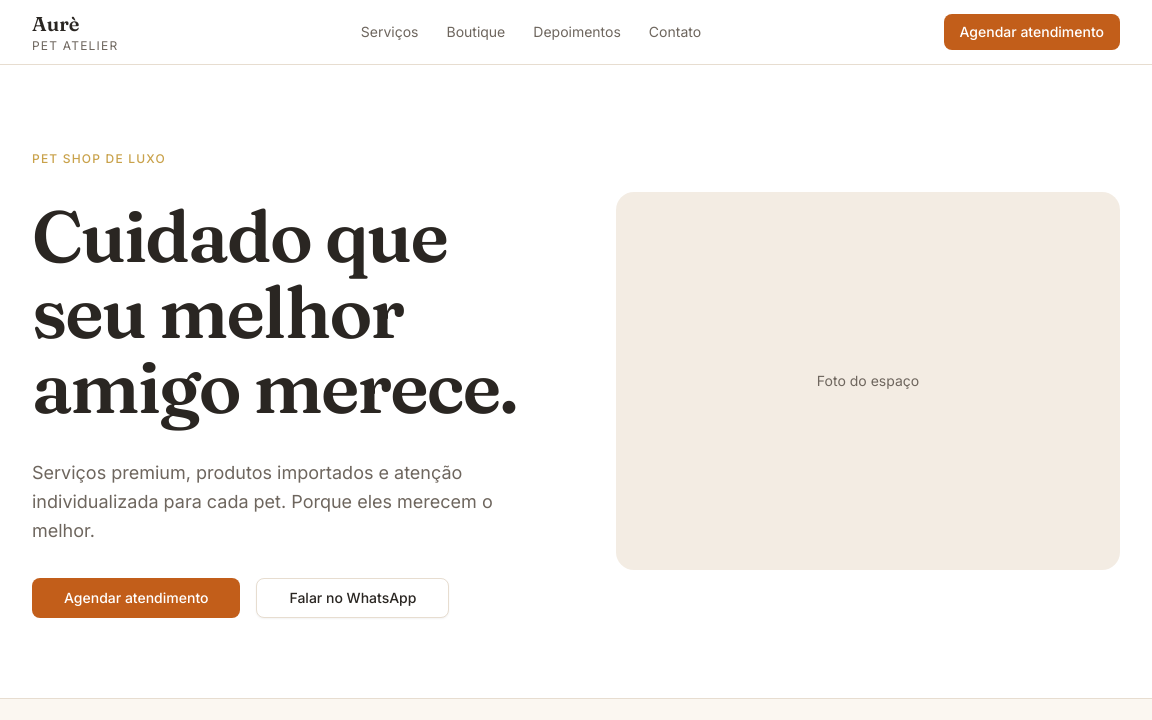
Test: HomePage › opens booking modal when header button is clicked
Click the 1st button "Agendar atendimento": (1032, 32) x1=944 y1=14 x2=1120 y2=50
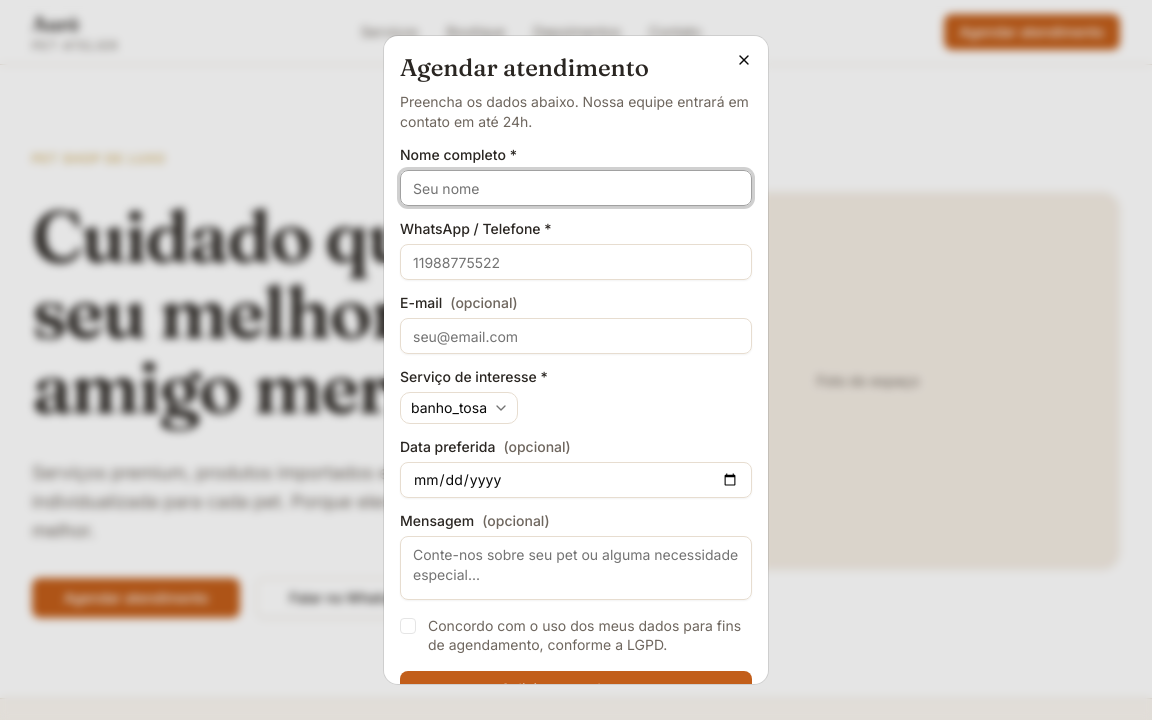
Result: the text "Nossa equipe entrará em contato" is shown at x1=400 y1=93 x2=749 y2=130
